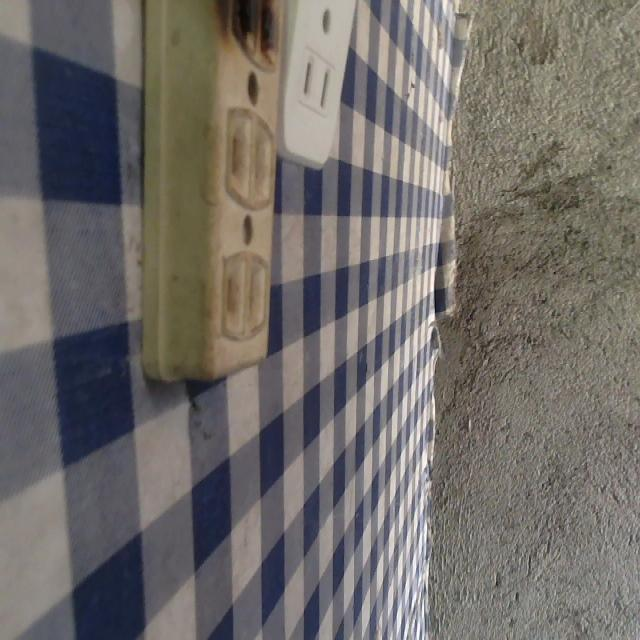-: (214, 1, 291, 71)
